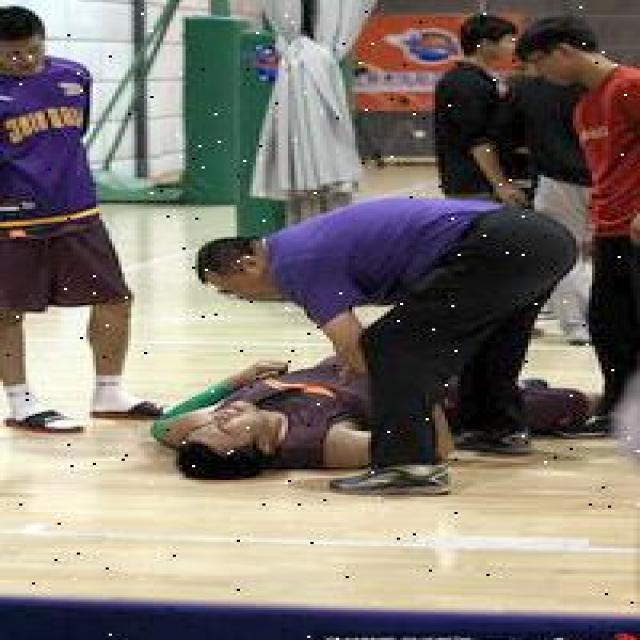fall: (166, 337, 489, 476)
